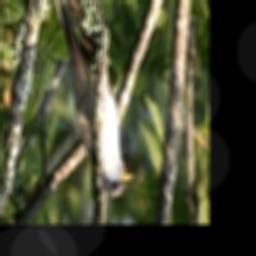Cuckoo: (52, 0, 135, 197)
